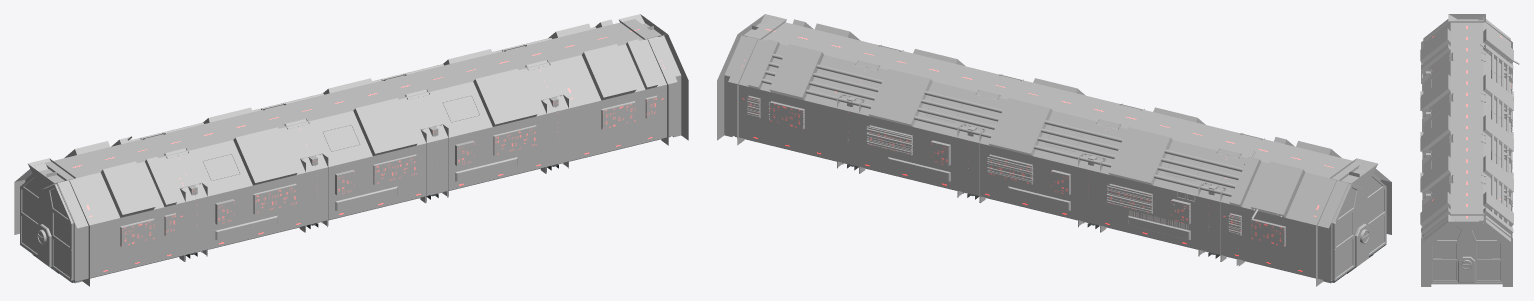
Rendered from Corri all.fbx.
The picture shows the model from 3 angles, left to right: view 1: azimuth 30°, elevation 25°; view 2: azimuth 150°, elevation 25°; view 3: azimuth 270°, elevation 25°; orthographic projection. The views are drawn at different scales.
Visible parts, largest first — view 1: Mur.005, Mur, Mur.002, Cube.007, Cube.006, Cube.009, Details_centre.002, Cube.004, Mur.003, Sol.001, Tuyau.016, Cube.005; view 2: Mur.005, Mur, Mur.002, Tuyau.016, Cube.006, Cube.007, Cube.009, Details_centre.002, Cube.004, Mur.003, Sol.001, Cube.005; view 3: Mur.002, Mur.005, Mur, Cube.009, Cube.012, Cube.010, Tuyau.016, Details_centre.002, Mur.003, Cube.005, Cube.018, Cube.004 (+1 smaller).
Boxes of the visible parts, x1=… form: Mur.005: x1=178, y1=49, x2=556, y2=251; Mur: x1=14, y1=19, x2=677, y2=281; Mur.002: x1=44, y1=19, x2=657, y2=179; Cube.007: x1=43, y1=184, x2=74, y2=280; Cube.006: x1=20, y1=175, x2=45, y2=261; Cube.009: x1=642, y1=23, x2=688, y2=145; Details_centre.002: x1=179, y1=95, x2=568, y2=261; Cube.004: x1=25, y1=165, x2=89, y2=286; Mur.003: x1=140, y1=45, x2=557, y2=198; Sol.001: x1=20, y1=136, x2=670, y2=282; Tuyau.016: x1=132, y1=27, x2=595, y2=141; Cube.005: x1=27, y1=158, x2=75, y2=189; Mur.005: x1=849, y1=49, x2=1227, y2=251; Mur: x1=728, y1=19, x2=1391, y2=281; Mur.002: x1=748, y1=19, x2=1361, y2=180; Tuyau.016: x1=761, y1=53, x2=1243, y2=196; Cube.006: x1=1332, y1=185, x2=1363, y2=280; Cube.007: x1=1361, y1=175, x2=1386, y2=261; Cube.009: x1=717, y1=23, x2=762, y2=145; Details_centre.002: x1=837, y1=94, x2=1226, y2=261; Cube.004: x1=1316, y1=165, x2=1380, y2=286; Mur.003: x1=847, y1=45, x2=1264, y2=198; Sol.001: x1=735, y1=136, x2=1386, y2=282; Cube.005: x1=1330, y1=158, x2=1377, y2=189; Mur.002: x1=1450, y1=20, x2=1483, y2=220; Mur.005: x1=1420, y1=58, x2=1513, y2=211; Mur: x1=1420, y1=17, x2=1513, y2=241; Cube.009: x1=1421, y1=218, x2=1512, y2=286; Cube.012: x1=1466, y1=226, x2=1501, y2=282; Cube.010: x1=1432, y1=226, x2=1466, y2=282; Tuyau.016: x1=1491, y1=53, x2=1508, y2=224; Details_centre.002: x1=1423, y1=68, x2=1510, y2=210; Mur.003: x1=1431, y1=52, x2=1501, y2=194; Cube.005: x1=1448, y1=14, x2=1485, y2=22; Cube.018: x1=1448, y1=214, x2=1485, y2=232; Cube.004: x1=1421, y1=19, x2=1512, y2=83.
Size of the model in its own units: 5641 by 870 by 1137.
